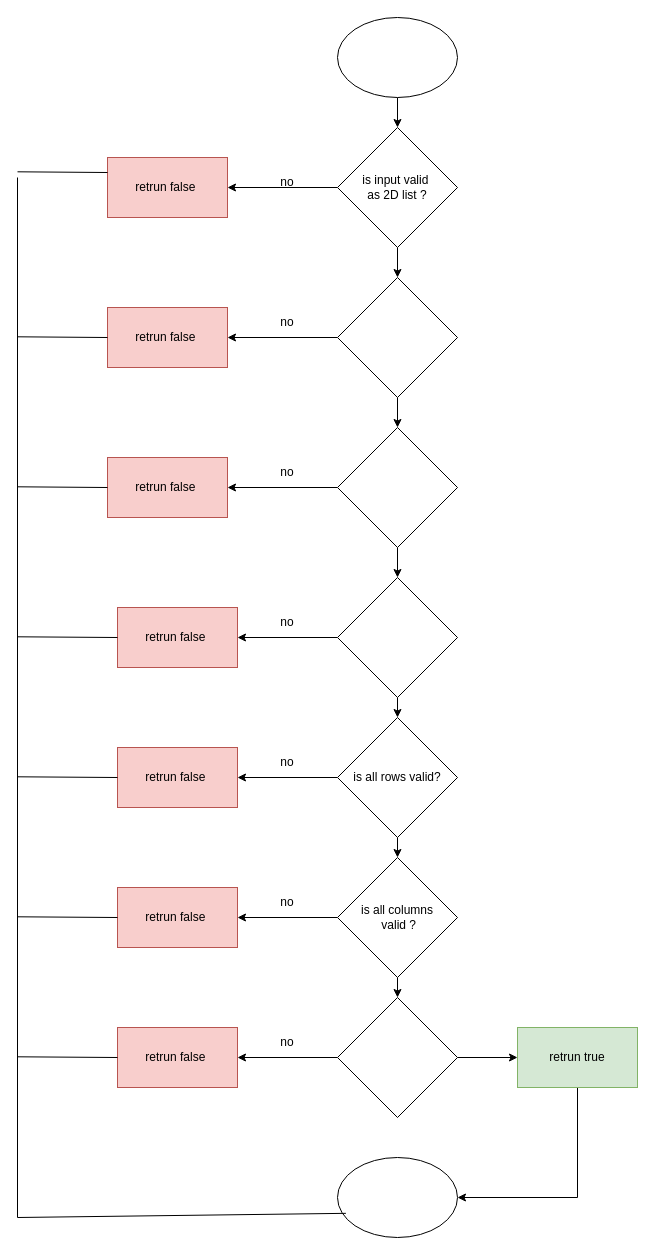
Image size: 655x1255. Some labels were removed from this diagram. Each missing label, with the box of its shape:
end: (336, 1156, 458, 1238)
is all cels valid characters ?: (336, 576, 458, 698)
is all subgrids valid?: (336, 996, 458, 1118)
is board square?: (336, 276, 458, 398)
is valid subgrid size?: (336, 426, 458, 548)
start: (336, 16, 458, 98)
